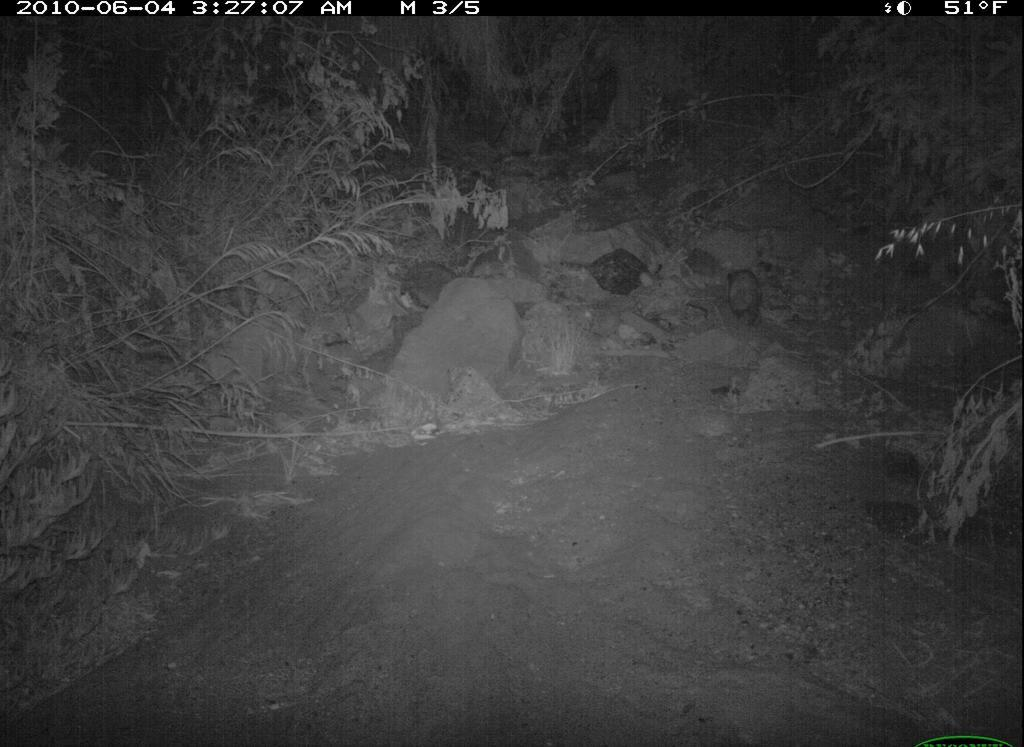opossum: (715, 250, 776, 341)
